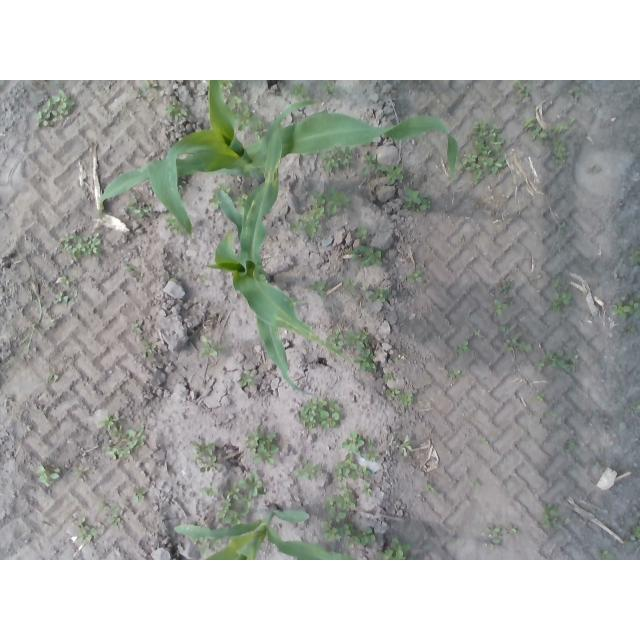Maize: (98, 81, 458, 235), (208, 99, 349, 395), (174, 504, 359, 561)
Weeds: (322, 485, 376, 548), (290, 185, 351, 239), (460, 117, 508, 185), (19, 279, 55, 362), (217, 469, 267, 526), (525, 116, 574, 166), (98, 412, 147, 462), (325, 329, 379, 373), (333, 431, 377, 482), (296, 394, 345, 431), (35, 90, 77, 126), (363, 152, 404, 187), (55, 231, 102, 260), (248, 427, 281, 466), (538, 348, 581, 376), (501, 324, 536, 357), (234, 103, 264, 140), (46, 275, 80, 307), (189, 439, 219, 473), (347, 245, 386, 271), (484, 524, 522, 549), (376, 537, 416, 560), (548, 275, 572, 313), (612, 289, 640, 321), (322, 149, 355, 176), (403, 186, 433, 215), (73, 516, 99, 547), (197, 334, 224, 362), (37, 461, 63, 490), (538, 502, 563, 530), (100, 500, 124, 528), (296, 458, 325, 481), (208, 184, 232, 211), (126, 193, 151, 218), (385, 386, 415, 406), (492, 297, 516, 319), (195, 538, 224, 556), (164, 100, 188, 121), (398, 433, 415, 460), (368, 285, 392, 304), (137, 80, 158, 101), (199, 480, 221, 499), (309, 280, 330, 299), (165, 215, 184, 236), (514, 82, 533, 103), (290, 81, 310, 100), (141, 341, 160, 360), (342, 277, 362, 295), (239, 369, 257, 389), (74, 463, 90, 485), (123, 261, 142, 279), (225, 92, 243, 110), (131, 485, 149, 503), (322, 80, 338, 97), (405, 269, 423, 284), (455, 340, 470, 358), (501, 278, 515, 295), (627, 247, 640, 264), (220, 80, 238, 92), (356, 225, 370, 240), (130, 321, 143, 336), (572, 85, 585, 100), (235, 191, 248, 205), (566, 439, 579, 453), (532, 274, 545, 287), (426, 481, 438, 495), (383, 372, 397, 384), (364, 485, 375, 500), (630, 524, 640, 540), (601, 549, 615, 560), (197, 274, 214, 283), (46, 373, 59, 384), (447, 370, 463, 378), (167, 273, 180, 282), (627, 325, 637, 335), (473, 479, 483, 489), (536, 392, 544, 404), (558, 222, 567, 231), (474, 330, 483, 339), (550, 408, 559, 417), (460, 234, 468, 244), (596, 459, 604, 469), (482, 437, 490, 447), (389, 352, 399, 360), (635, 400, 640, 412), (565, 516, 571, 526)
